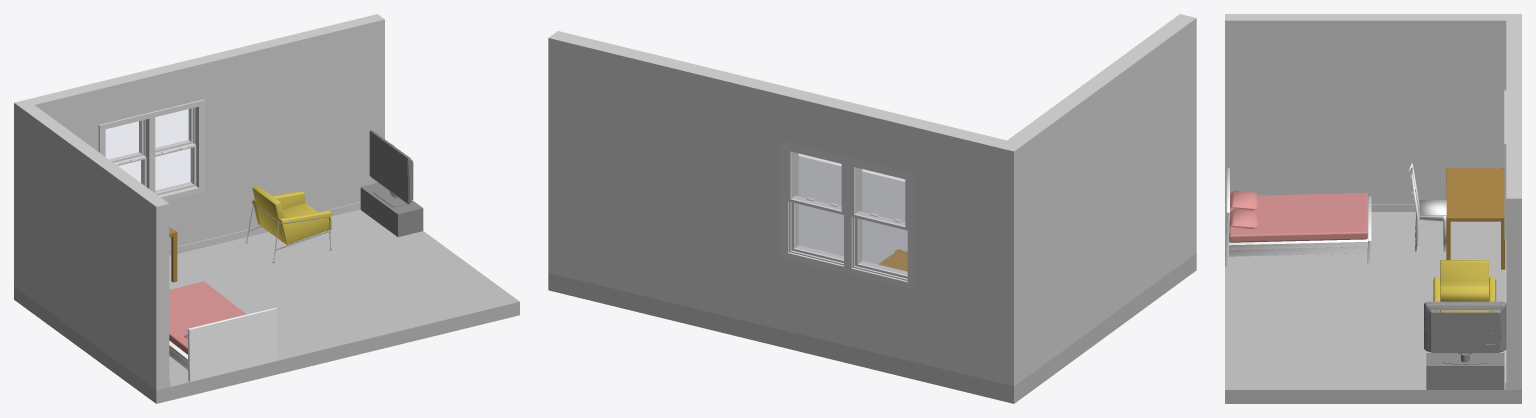
File: L12_W18_furniture3_circulation3.glb
3 renders of one model, left to right at view 1: azimuth 30°, elevation 25°; view 2: azimuth 150°, elevation 25°; view 3: azimuth 270°, elevation 25°, orthographic. The views are drawn at different scales.
Bounding box in the file's own units: 224 × 116 × 152.
